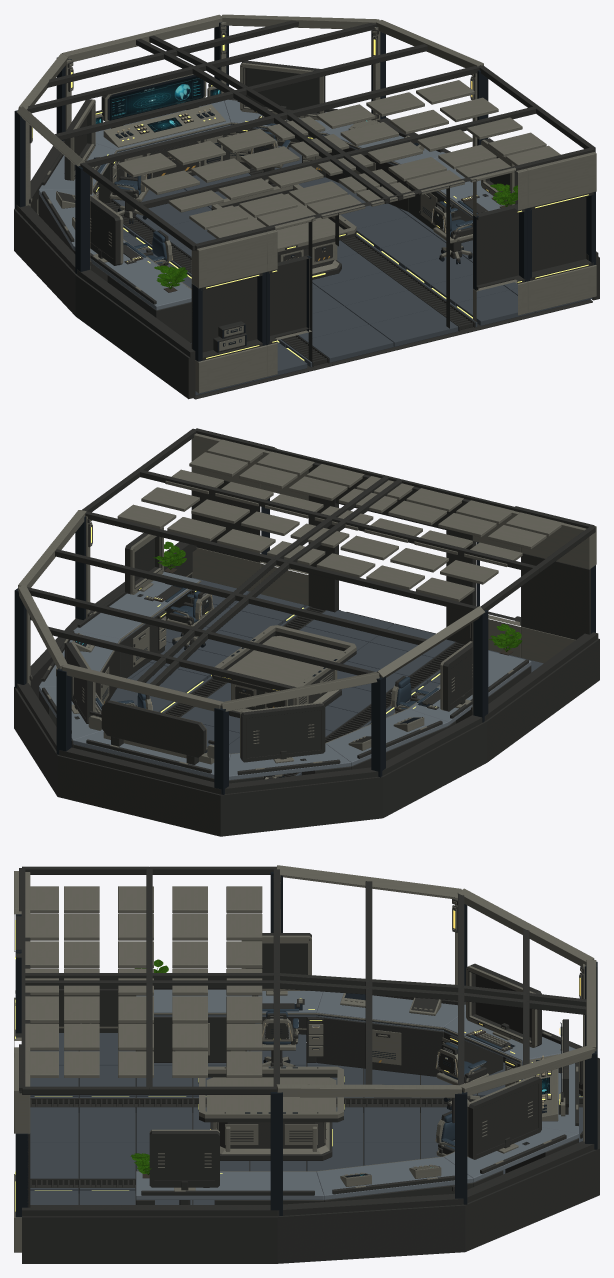
File: cruz-del-sur-clean-bridge-transition-ready.glb
3 renders of one model, top to bottom at view 1: azimuth 30°, elevation 25°; view 2: azimuth 150°, elevation 25°; view 3: azimuth 270°, elevation 25°, orthographic. The views are drawn at different scales.
Visible parts, largest first — view 1: REFINED_bridge_static_BRIDGE V15 Graphite.001, REFINED_bridge_static_BRIDGE V15 Metal.001, REFINED_bridge_static_CDS DETAIL_Graphite deck - restrained , REFINED_bridge_static_BRIDGE V15 Gasket.001, REFINED_bridge_static_CDS CONSOLE_Brushed graphite desktop, REFINED_bridge_tactical_BRIDGE V15 Metal.001, REFINED_bridge_static_BRIDGE Central navigation.001, REFINED_bridge_communications_BRIDGE V15 Graphite.001, REFINED_bridge_arcade_BRIDGE V15 Graphite.001, REFINED_bridge_tactical_BRIDGE V15 Graphite.001, REFINED_bridge_static_CDS TAILORED_Blue charcoal performance, REFINED_bridge_computer_BRIDGE V15 Graphite.001 (+5 smaller); view 2: REFINED_bridge_static_BRIDGE V15 Graphite.001, REFINED_bridge_static_BRIDGE V15 Metal.001, REFINED_bridge_static_CDS DETAIL_Graphite deck - restrained , REFINED_bridge_static_CDS CONSOLE_Brushed graphite desktop, REFINED_bridge_static_BRIDGE V15 Gasket.001, REFINED_bridge_tactical_BRIDGE V15 Metal.001, REFINED_bridge_computer_BRIDGE V15 Graphite.001, REFINED_bridge_arcade_BRIDGE V15 Graphite.001, REFINED_bridge_tactical_BRIDGE V15 Graphite.001, REFINED_bridge_personal_BRIDGE V15 Graphite.001, REFINED_bridge_communications_BRIDGE V15 Graphite.001, REFINED_bridge_static_CDS TAILORED_Blue charcoal performance (+2 smaller); view 3: REFINED_bridge_static_BRIDGE V15 Graphite.001, REFINED_bridge_static_BRIDGE V15 Metal.001, REFINED_bridge_static_CDS DETAIL_Graphite deck - restrained , REFINED_bridge_static_CDS CONSOLE_Brushed graphite desktop, REFINED_bridge_static_BRIDGE V15 Gasket.001, REFINED_bridge_tactical_BRIDGE V15 Metal.001, REFINED_bridge_personal_BRIDGE V15 Graphite.001, REFINED_bridge_communications_BRIDGE V15 Graphite.001, REFINED_bridge_tactical_BRIDGE V15 Graphite.001, REFINED_bridge_computer_BRIDGE V15 Graphite.001, REFINED_bridge_arcade_BRIDGE V15 Graphite.001, REFINED_bridge_computer_BRIDGE V15 Metal.001 (+3 smaller).
Part boxes in pixels (<box>): REFINED_bridge_static_BRIDGE V15 Graphite.001: <box>14,20,599,399</box>; REFINED_bridge_static_BRIDGE V15 Metal.001: <box>17,14,596,393</box>; REFINED_bridge_static_CDS DETAIL_Graphite deck - restrained : <box>113,146,592,395</box>; REFINED_bridge_static_BRIDGE V15 Gasket.001: <box>14,22,595,361</box>; REFINED_bridge_static_CDS CONSOLE_Brushed graphite desktop: <box>39,99,504,310</box>; REFINED_bridge_tactical_BRIDGE V15 Metal.001: <box>211,184,356,273</box>; REFINED_bridge_static_BRIDGE Central navigation.001: <box>95,76,221,132</box>; REFINED_bridge_communications_BRIDGE V15 Graphite.001: <box>228,60,337,135</box>; REFINED_bridge_arcade_BRIDGE V15 Graphite.001: <box>90,196,156,304</box>; REFINED_bridge_tactical_BRIDGE V15 Graphite.001: <box>211,189,356,279</box>; REFINED_bridge_static_CDS TAILORED_Blue charcoal performance: <box>97,123,477,263</box>; REFINED_bridge_computer_BRIDGE V15 Graphite.001: <box>42,99,118,185</box>; REFINED_bridge_static_BRIDGE V15 Graphite.001: <box>14,428,599,836</box>; REFINED_bridge_static_BRIDGE V15 Metal.001: <box>18,433,596,779</box>; REFINED_bridge_static_CDS DETAIL_Graphite deck - restrained : <box>110,577,543,775</box>; REFINED_bridge_static_CDS CONSOLE_Brushed graphite desktop: <box>39,571,531,780</box>; REFINED_bridge_static_BRIDGE V15 Gasket.001: <box>14,498,595,794</box>; REFINED_bridge_tactical_BRIDGE V15 Metal.001: <box>213,625,356,712</box>; REFINED_bridge_computer_BRIDGE V15 Graphite.001: <box>237,703,340,775</box>; REFINED_bridge_arcade_BRIDGE V15 Graphite.001: <box>427,642,528,718</box>; REFINED_bridge_tactical_BRIDGE V15 Graphite.001: <box>211,631,356,717</box>; REFINED_bridge_personal_BRIDGE V15 Graphite.001: <box>77,528,173,665</box>; REFINED_bridge_communications_BRIDGE V15 Graphite.001: <box>42,642,101,733</box>; REFINED_bridge_static_CDS TAILORED_Blue charcoal performance: <box>95,587,438,709</box>; REFINED_bridge_static_BRIDGE V15 Graphite.001: <box>15,866,599,1263</box>; REFINED_bridge_static_BRIDGE V15 Metal.001: <box>14,865,596,1252</box>; REFINED_bridge_static_CDS DETAIL_Graphite deck - restrained : <box>30,1033,582,1204</box>; REFINED_bridge_static_CDS CONSOLE_Brushed graphite desktop: <box>136,989,578,1199</box>; REFINED_bridge_static_BRIDGE V15 Gasket.001: <box>15,872,597,1217</box>; REFINED_bridge_tactical_BRIDGE V15 Metal.001: <box>199,1066,343,1154</box>; REFINED_bridge_personal_BRIDGE V15 Graphite.001: <box>141,1131,314,1195</box>; REFINED_bridge_communications_BRIDGE V15 Graphite.001: <box>468,1076,566,1173</box>; REFINED_bridge_tactical_BRIDGE V15 Graphite.001: <box>198,1067,344,1160</box>; REFINED_bridge_computer_BRIDGE V15 Graphite.001: <box>441,963,560,1051</box>; REFINED_bridge_arcade_BRIDGE V15 Graphite.001: <box>154,933,311,1051</box>; REFINED_bridge_computer_BRIDGE V15 Metal.001: <box>442,965,551,1061</box>.
Size of the model in its own units: 9.92 by 3.62 by 10.81.
17 materials, 6 textured.
